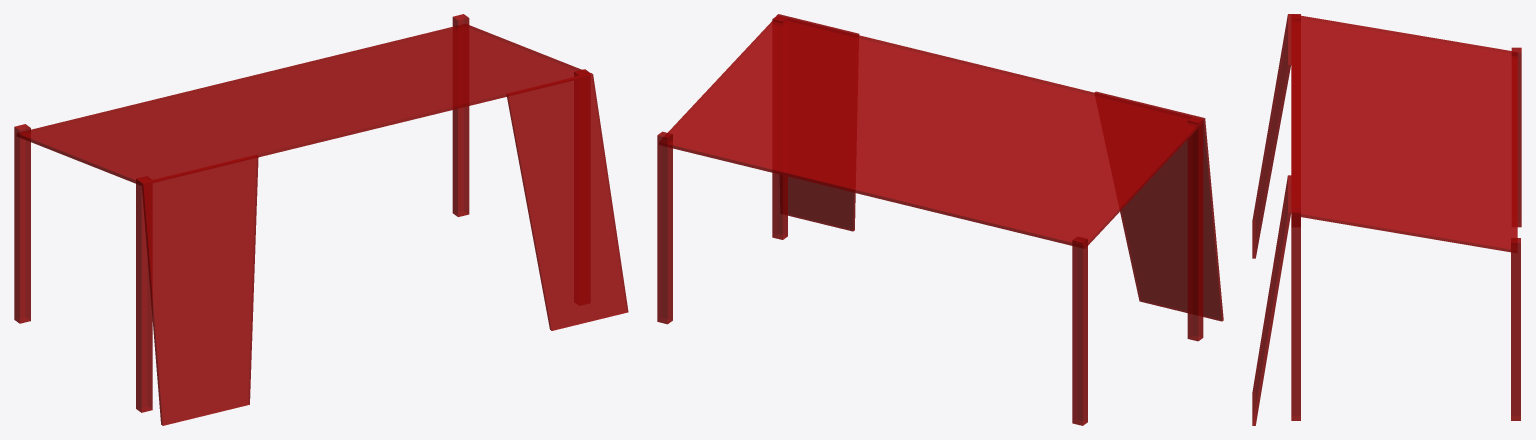
File: SM_Bld_CamoNet_Tent_03_Collision.fbx
The picture shows the model from 3 angles, left to right: view 1: azimuth 30°, elevation 25°; view 2: azimuth 150°, elevation 25°; view 3: azimuth 270°, elevation 25°; orthographic projection. The views are drawn at different scales.
Visible parts, largest first — view 1: SM_Bld_CamoNet_Tent_03_Collision; view 2: SM_Bld_CamoNet_Tent_03_Collision; view 3: SM_Bld_CamoNet_Tent_03_Collision.
Part boxes in pixels (x1=…): SM_Bld_CamoNet_Tent_03_Collision: x1=14, y1=14, x2=628, y2=425; SM_Bld_CamoNet_Tent_03_Collision: x1=657, y1=14, x2=1223, y2=425; SM_Bld_CamoNet_Tent_03_Collision: x1=1252, y1=14, x2=1521, y2=425.
Size of the model in its own units: 796 by 376 by 440.
